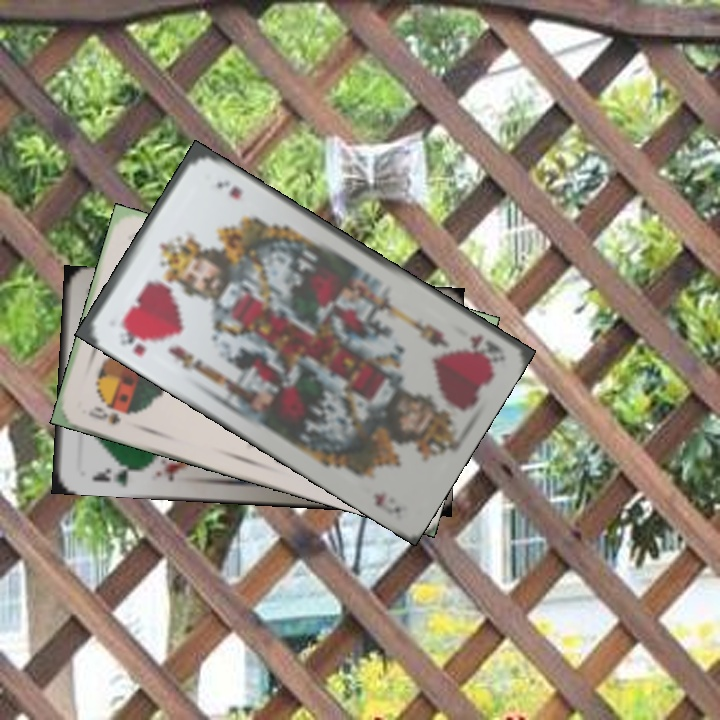GK: (88, 462, 137, 489)
HK: (115, 321, 149, 359), (465, 329, 505, 356)
SO: (84, 402, 132, 428)
